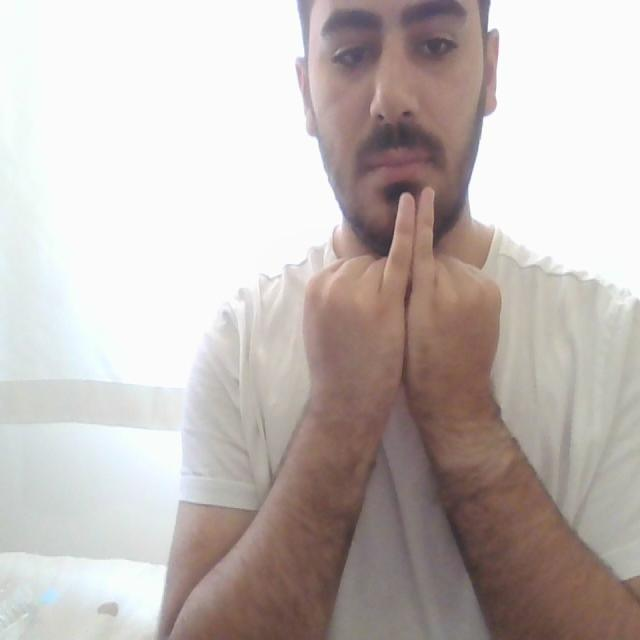Kardes: (293, 174, 507, 418)
